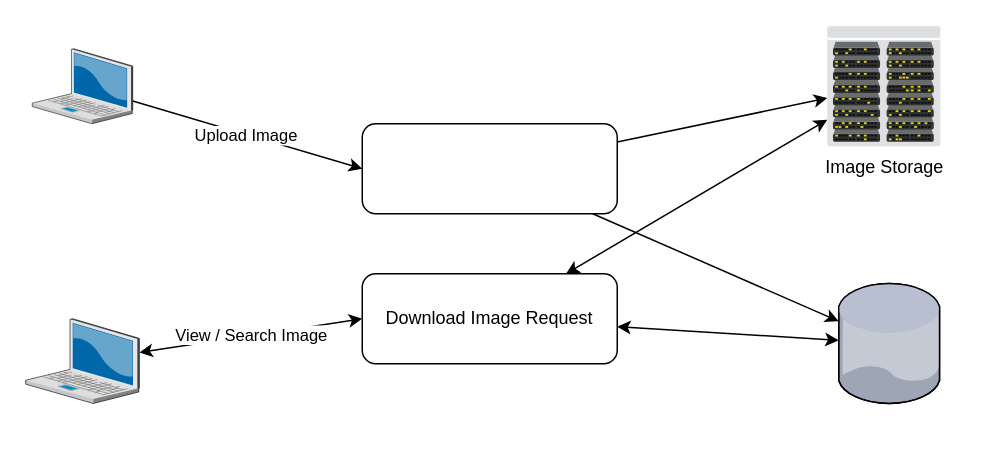
Image size: 981x461. Some labels were removed from this diagram. Here are the shapes that lost their labels. From the top down, the centre of each, then its label:
point (489, 168): Upload Image Request
point (889, 343): Image Metadata
